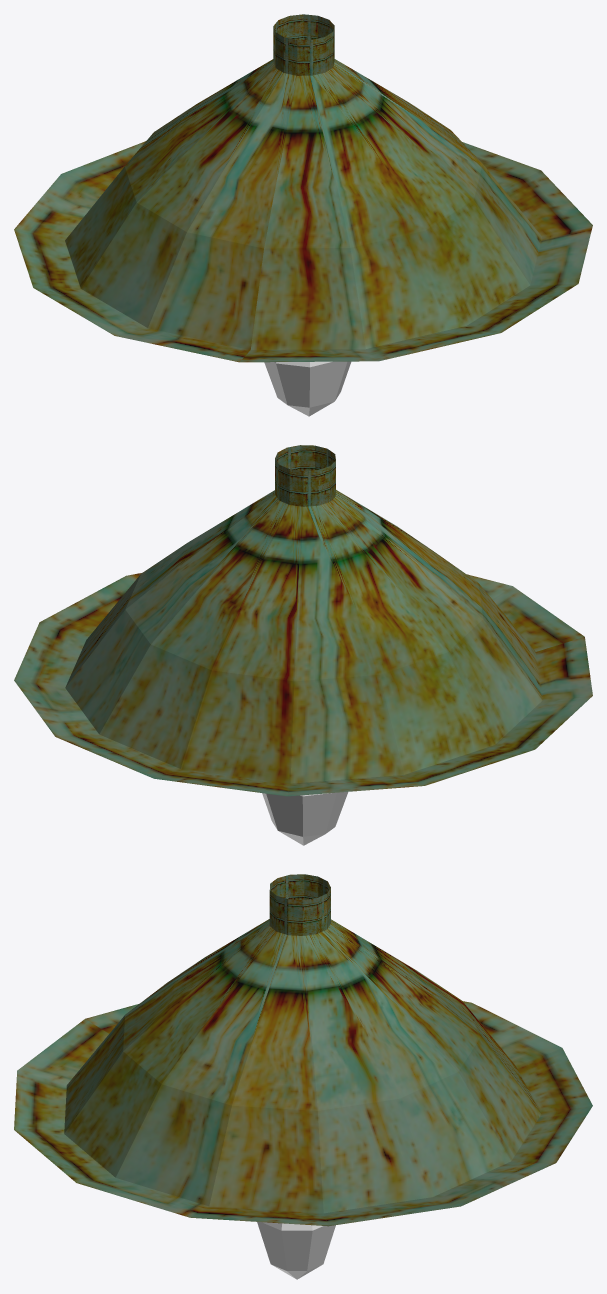
Rendered from lamp.glb.
The picture shows the model from 3 angles, top to bottom: view 1: azimuth 30°, elevation 25°; view 2: azimuth 150°, elevation 25°; view 3: azimuth 270°, elevation 25°; orthographic projection.
Visible parts, largest first — view 1: lamp.001, lamp; view 2: lamp.001, lamp; view 3: lamp.001, lamp.
Boxes of the visible parts, box(x1,y1,x2,y2) form: lamp.001: box(14, 14, 592, 362); lamp: box(264, 361, 351, 416); lamp.001: box(14, 445, 592, 796); lamp: box(262, 792, 348, 845); lamp.001: box(14, 874, 592, 1226); lamp: box(257, 1222, 335, 1279).
Bounding box in the file's own units: 0.9784 × 0.7256 × 0.9739.
Materials: 3 (2 with a texture image).
